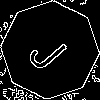J: (25, 25, 77, 75)
